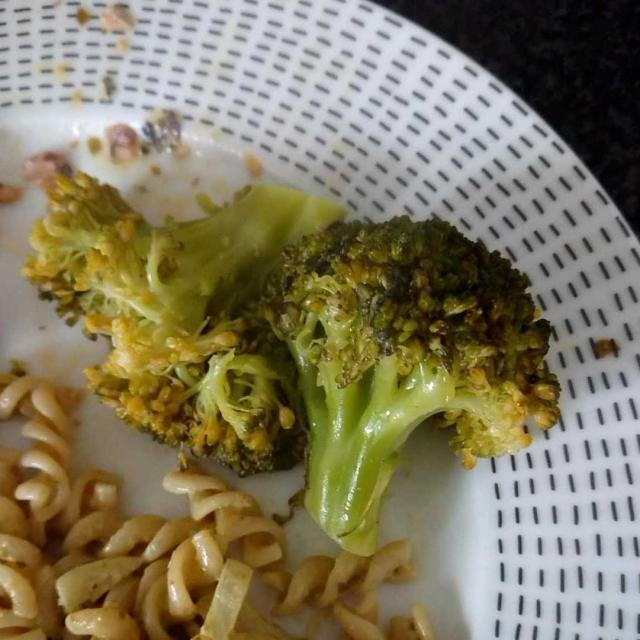broccoli: (28, 169, 607, 551)
